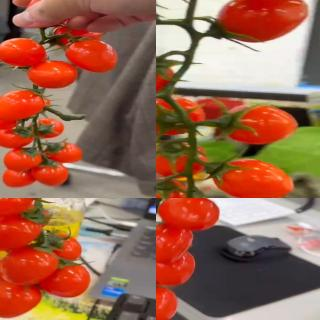tomato: (214, 0, 312, 43), (217, 102, 300, 145), (214, 158, 297, 198), (1, 245, 58, 286), (156, 139, 210, 178), (157, 198, 220, 230), (156, 94, 205, 135), (66, 39, 120, 74), (38, 264, 92, 299), (0, 37, 49, 69), (0, 213, 42, 250), (0, 281, 43, 317), (156, 249, 196, 287), (156, 222, 193, 263), (25, 60, 79, 88), (0, 88, 47, 120), (3, 147, 44, 172), (1, 164, 41, 188), (156, 54, 176, 102), (32, 163, 70, 188), (43, 141, 84, 163), (156, 282, 177, 320), (0, 127, 36, 149), (27, 119, 64, 140), (51, 236, 81, 261), (0, 198, 36, 218), (156, 179, 190, 198), (0, 105, 19, 130)
